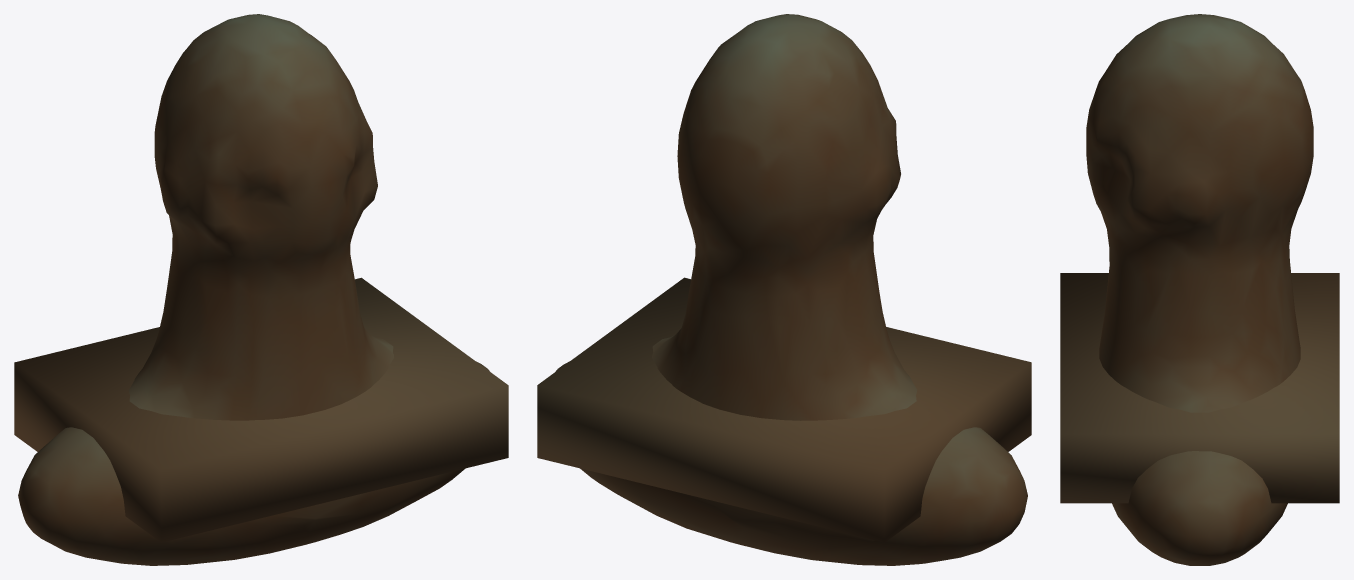
The model's file is bust0.glb.
The picture shows the model from 3 angles, left to right: view 1: azimuth 30°, elevation 25°; view 2: azimuth 150°, elevation 25°; view 3: azimuth 270°, elevation 25°; orthographic projection. The views are drawn at different scales.
Visible parts, largest first — view 1: bv_m; view 2: bv_m; view 3: bv_m.
Boxes of the visible parts, bbox=[...] form: bv_m: bbox=[14, 14, 508, 565]; bv_m: bbox=[537, 14, 1031, 565]; bv_m: bbox=[1060, 14, 1339, 565].
Bounding box in the file's own units: 0.9593 × 1 × 0.5173.
